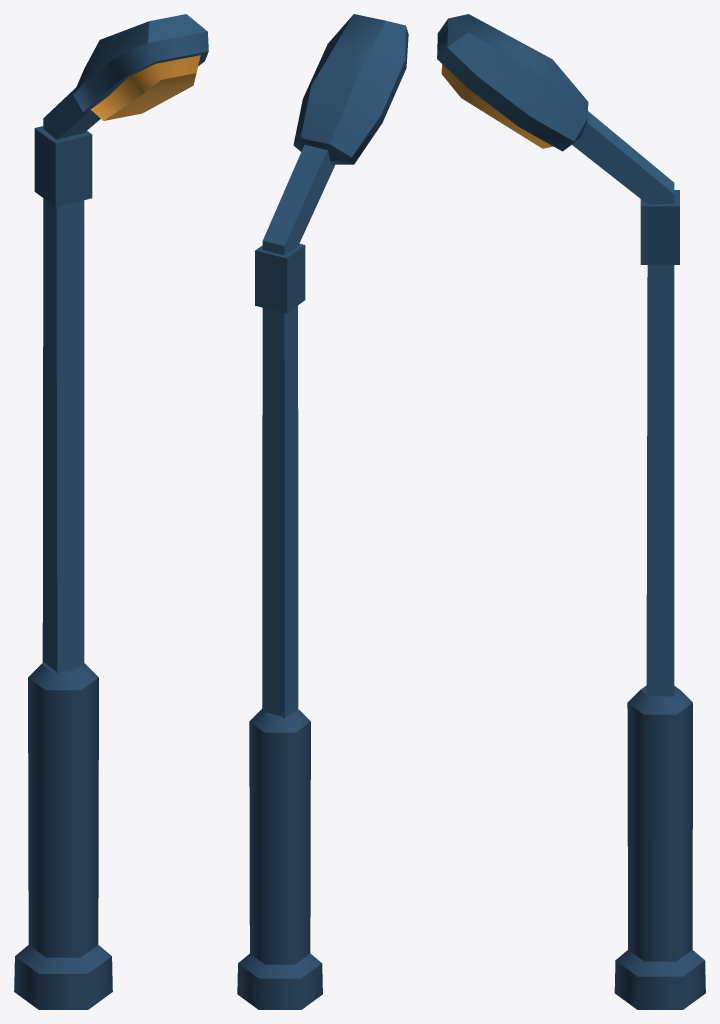
The model's file is Lamp_Court_1_F.glb.
3 renders of one model, left to right at view 1: azimuth 30°, elevation 25°; view 2: azimuth 150°, elevation 25°; view 3: azimuth 270°, elevation 25°, orthographic. The views are drawn at different scales.
Parts seen in each view (by area): view 1: Lamp_Court_1_F; view 2: Lamp_Court_1_F; view 3: Lamp_Court_1_F.
Part boxes in pixels (x1,y1,x2,y2): Lamp_Court_1_F: [14, 14, 208, 1009]; Lamp_Court_1_F: [237, 14, 408, 1009]; Lamp_Court_1_F: [437, 14, 705, 1009].
Bounding box in the file's own units: 0.5867 × 6.48 × 1.63.
1 material, 1 textured.
